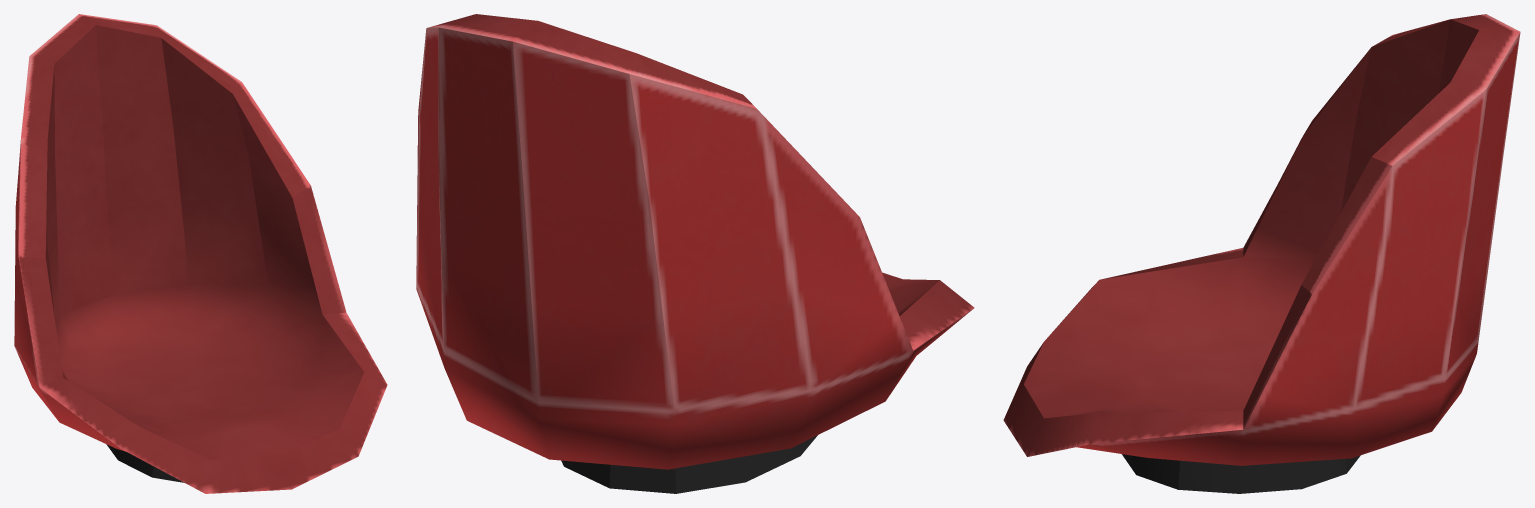
Rendered from Sensorama_part2.gltf.
3 renders of one model, left to right at view 1: azimuth 30°, elevation 25°; view 2: azimuth 150°, elevation 25°; view 3: azimuth 270°, elevation 25°, orthographic. The views are drawn at different scales.
Parts seen in each view (by area): view 1: Sensorama_part3; view 2: Sensorama_part3; view 3: Sensorama_part3.
Part boxes in pixels (left/top/right/bottom): Sensorama_part3: left=14, top=14, right=387, bottom=493; Sensorama_part3: left=416, top=14, right=974, bottom=493; Sensorama_part3: left=1003, top=14, right=1520, bottom=493.
Size of the model in its own units: 1.06 by 1.15 by 1.27.
Materials: 1 (1 with a texture image).
